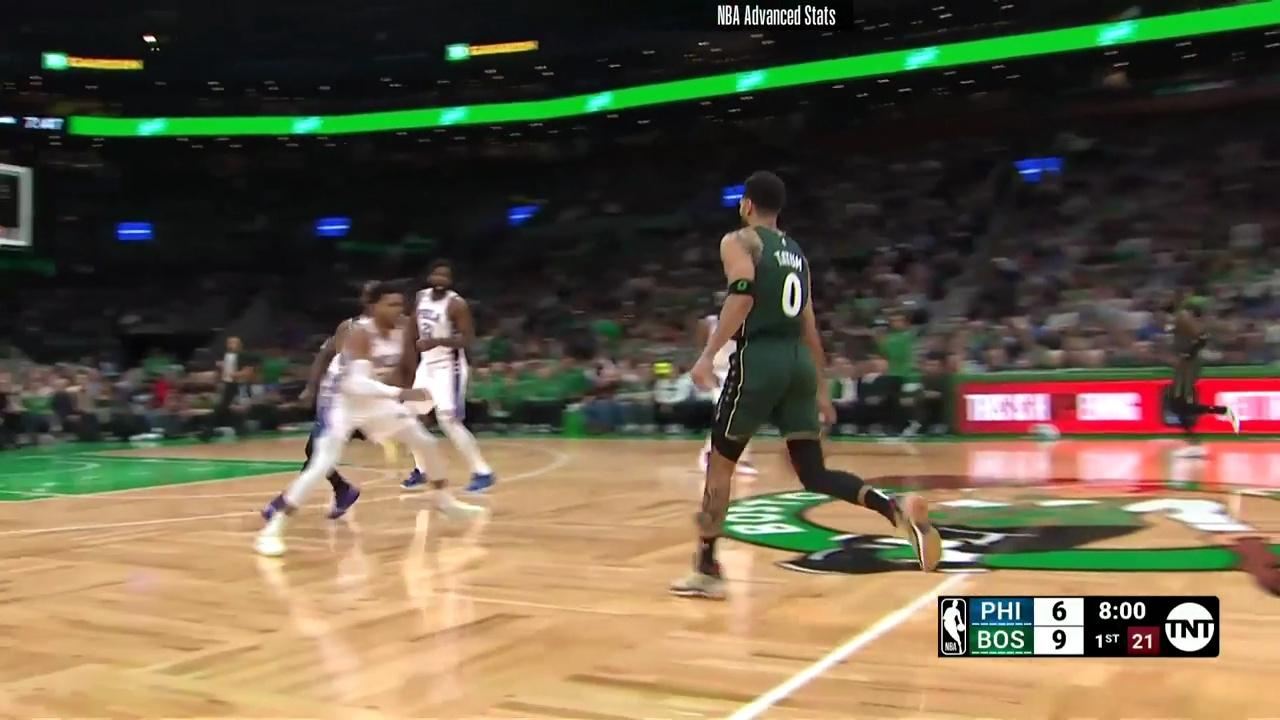Person: (680, 170, 939, 620), (262, 282, 409, 535), (400, 265, 507, 504), (1151, 283, 1243, 461), (692, 286, 729, 413)
Referee: (214, 330, 265, 443)
